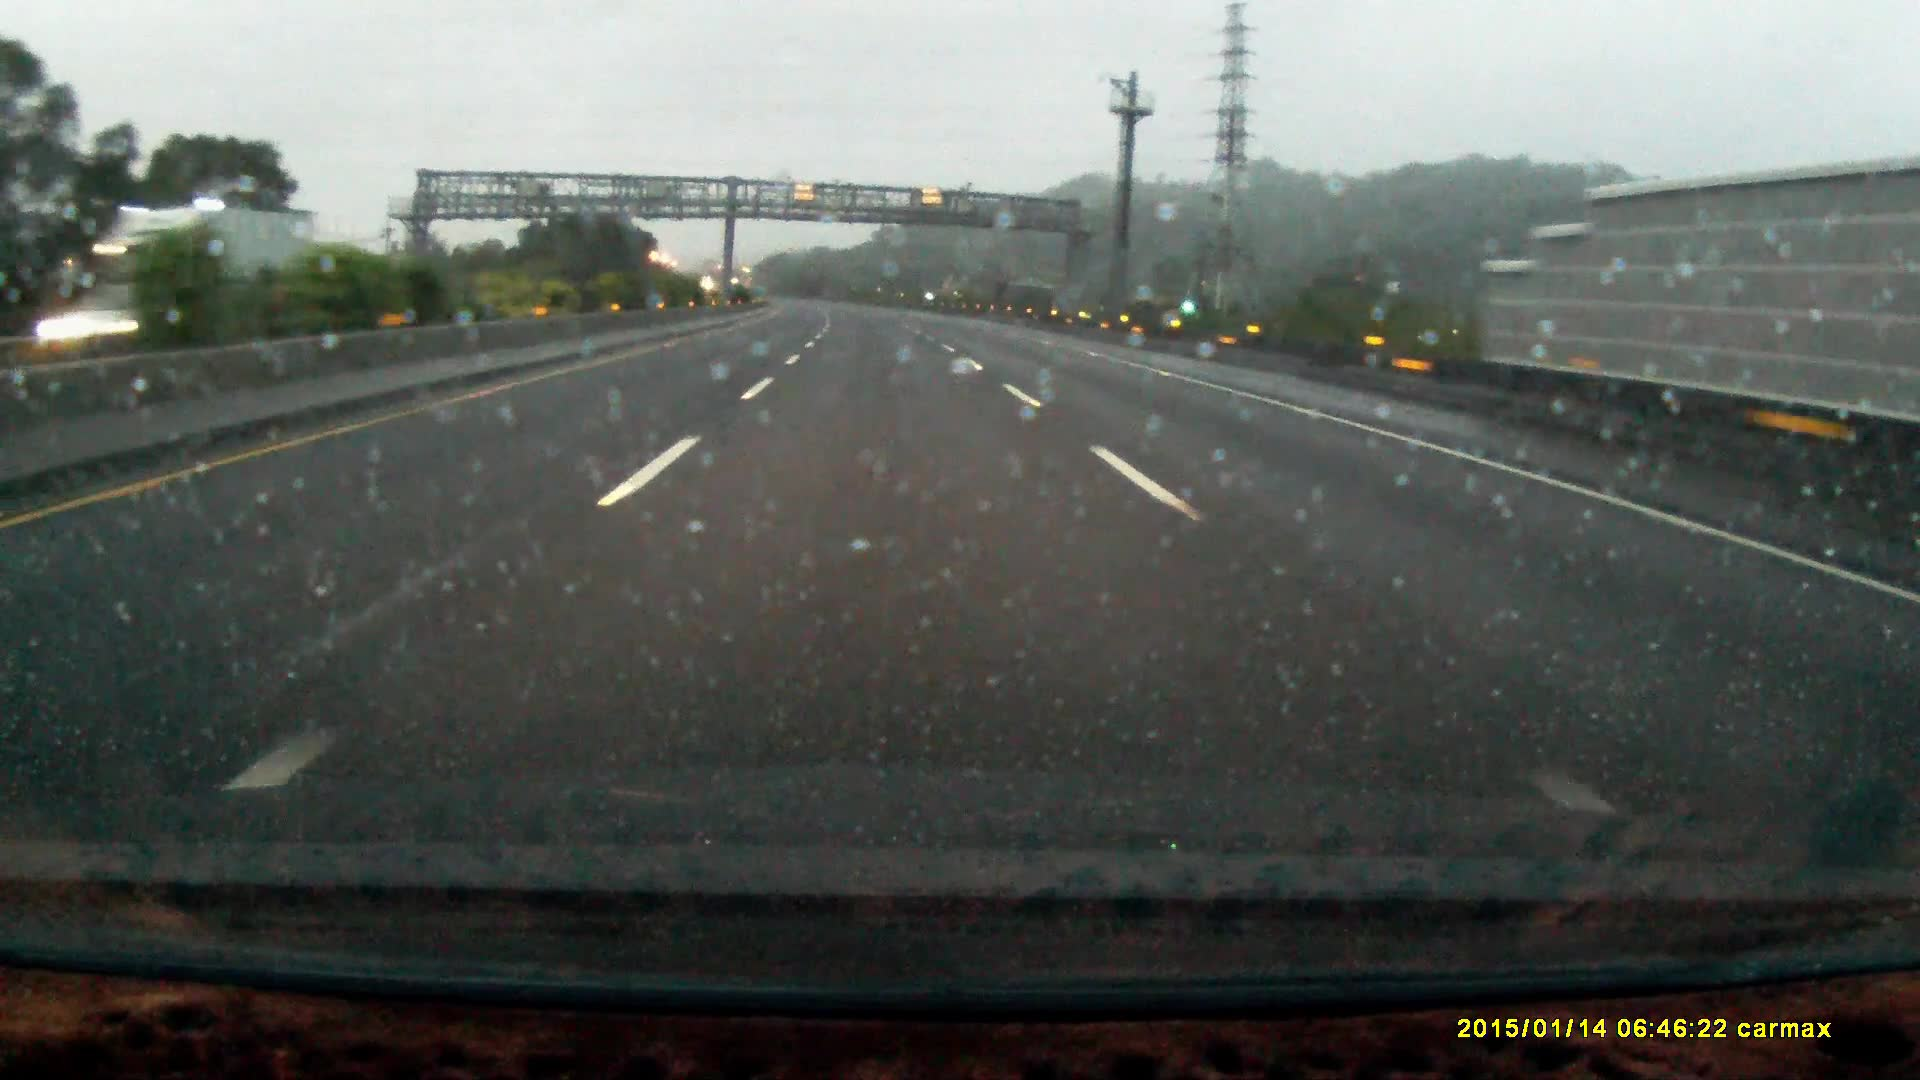vehicle: (88, 207, 306, 328), (40, 284, 173, 373)
